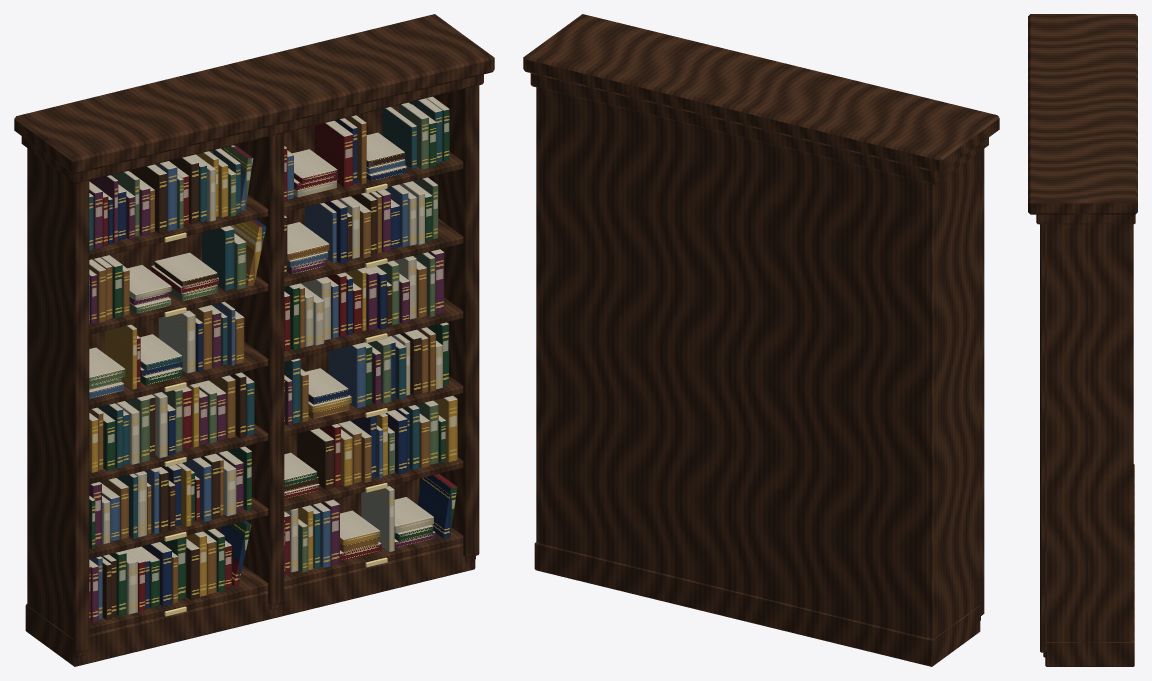
Rendered from lib_bookstack_tall_aaa-7e74f994d5c9.glb.
3 views of the same model, side by side, from view 1: azimuth 30°, elevation 25°; view 2: azimuth 150°, elevation 25°; view 3: azimuth 270°, elevation 25° (orthographic). The views are drawn at different scales.
Parts seen in each view (by area): view 1: lib_bookstack_tall_aaa; view 2: lib_bookstack_tall_aaa; view 3: lib_bookstack_tall_aaa.
Boxes of the visible parts, bbox=[...] form: lib_bookstack_tall_aaa: bbox=[14, 14, 494, 666]; lib_bookstack_tall_aaa: bbox=[523, 14, 999, 666]; lib_bookstack_tall_aaa: bbox=[1028, 14, 1137, 666].
Bounding box in the file's own units: 2.19 × 2.56 × 0.54.
Materials: 3 (2 with a texture image).
